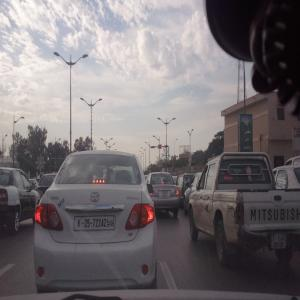Vehicle-registration-plate: (74, 217, 116, 233), (272, 236, 287, 250), (163, 192, 170, 199)
